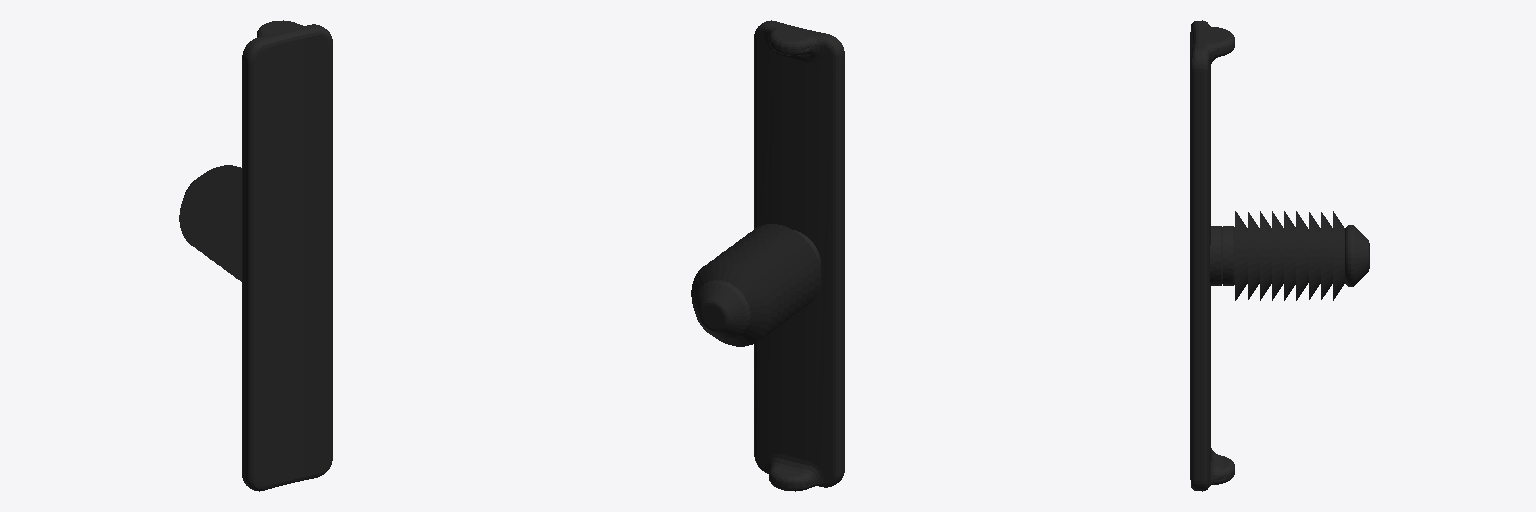
robot.urdf — Clip2:
<?xml version="1.0" encoding="utf-8"?>
<!-- This URDF was automatically created by SolidWorks to URDF Exporter! Originally created by [author] ([email redacted]) 
     Commit Version: 1.5.1-0-g916b5db  Build Version: 1.5.7152.31018
     For more information, please see http://wiki.ros.org/sw_urdf_exporter -->
<robot
  name="Clip2">
  <link
    name="Clips_2.SLDPRT">
    <inertial>
      <origin
        xyz="-7.3347E-12 0.0020413 6.51049999875011E-10"
        rpy="0 0 0" />
      <mass
        value="0.00082038" />
      <inertia
        ixx="8.1643E-08"
        ixy="-1.13379999999565E-17"
        ixz="-7.1124E-13"
        iyy="7.1223E-08"
        iyz="-9.20860003337358E-16"
        izz="1.6718E-08" />
    </inertial>
    <visual>
      <origin
        xyz="0 0 0"
        rpy="1.5707963267949 0 0" />
      <geometry>
        <mesh
          filename="package://Clip2/meshes/Clips_2.SLDPRT.STL" />
      </geometry>
      <material
        name="">
        <color
          rgba="0.2 0.2 0.2 1" />
        <texture
          filename="package://Clip2/textures/" />
      </material>
    </visual>
    <collision>
      <origin
        xyz="0 0 0"
        rpy="1.5707963267949 0 0" />
      <geometry>
        <mesh
          filename="package://Clip2/meshes/Clips_2.SLDPRT.STL" />
      </geometry>
    </collision>
  </link>
</robot>

--- What the picture shows (computed from the rendered views, not written in the file) ---
Views: 3 orthographic renders of the robot side by side, from view 1: azimuth 30°, elevation 25°; view 2: azimuth 150°, elevation 25°; view 3: azimuth 270°, elevation 25°.
Robot: Clip2 — 1 links, 0 joints (none); root link Clips_2.SLDPRT; default pose: all joints at 0.
Visible links, largest first — view 1: Clips_2.SLDPRT; view 2: Clips_2.SLDPRT; view 3: Clips_2.SLDPRT.
Link boxes in pixels (x1,y1,x2,y2): Clips_2.SLDPRT: (179, 20, 332, 491); Clips_2.SLDPRT: (691, 20, 844, 491); Clips_2.SLDPRT: (1190, 20, 1369, 491).
Bounding box of the posed robot: 0.008 × 0.0147 × 0.04 m (x, y, z).
Meshes: 1 distinct files referenced, 1 mesh visuals loaded (1 binary STL).